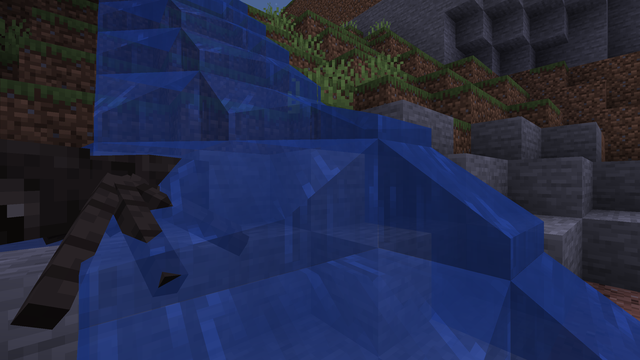araignees: (14, 124, 223, 302)
